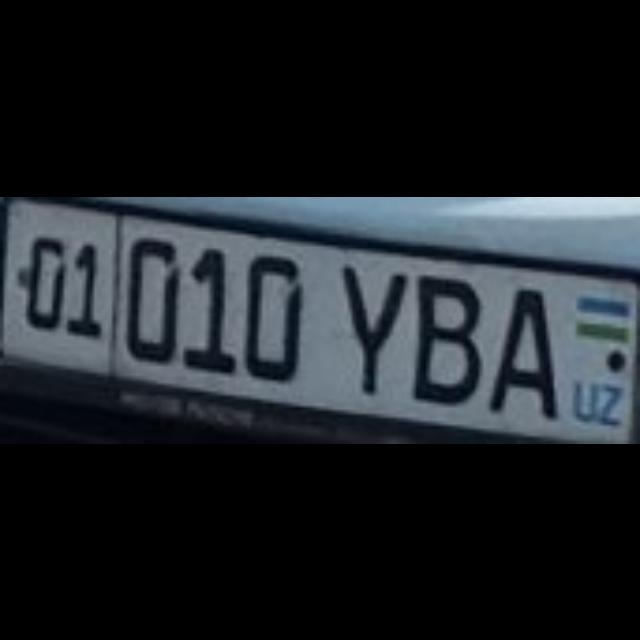0: (239, 248, 299, 379), (120, 230, 176, 360), (22, 229, 64, 323)
1: (180, 242, 232, 368), (63, 237, 97, 331)
A: (486, 282, 554, 413)
B: (408, 267, 479, 398)
Y: (338, 260, 404, 390)
